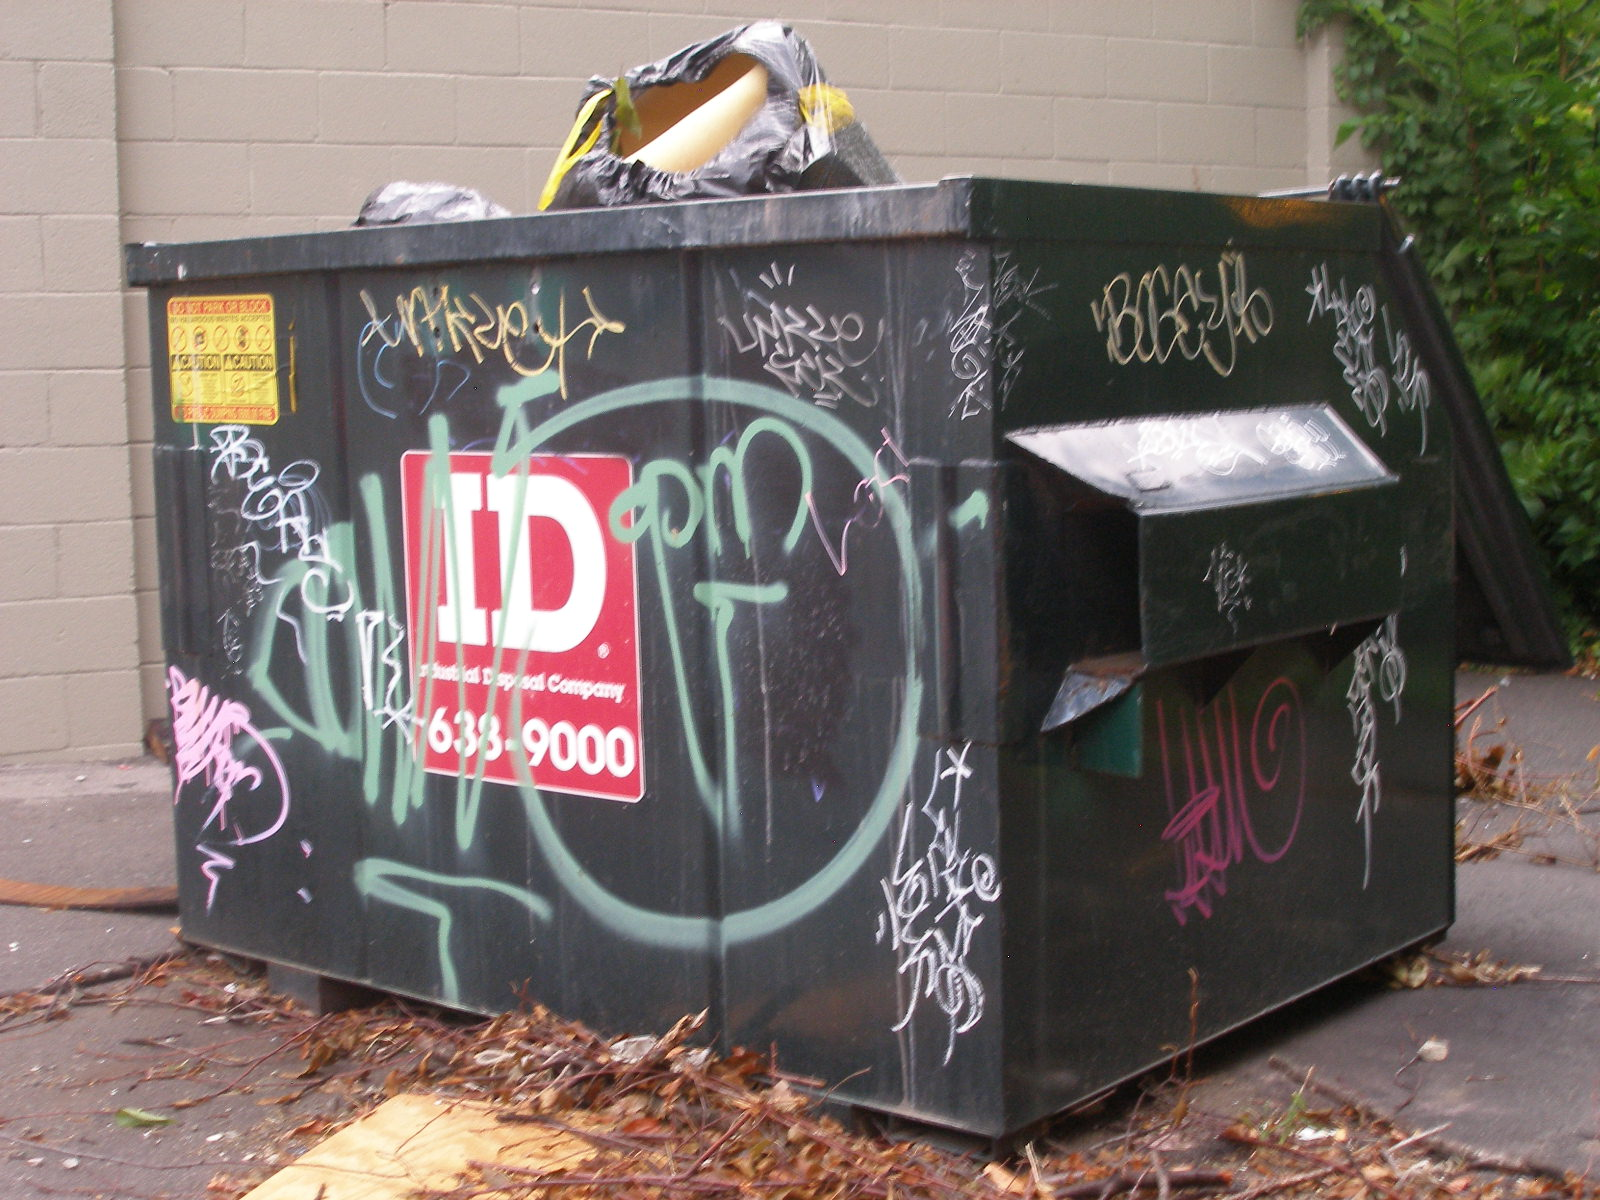Dumpster: (117, 160, 1580, 1142)
